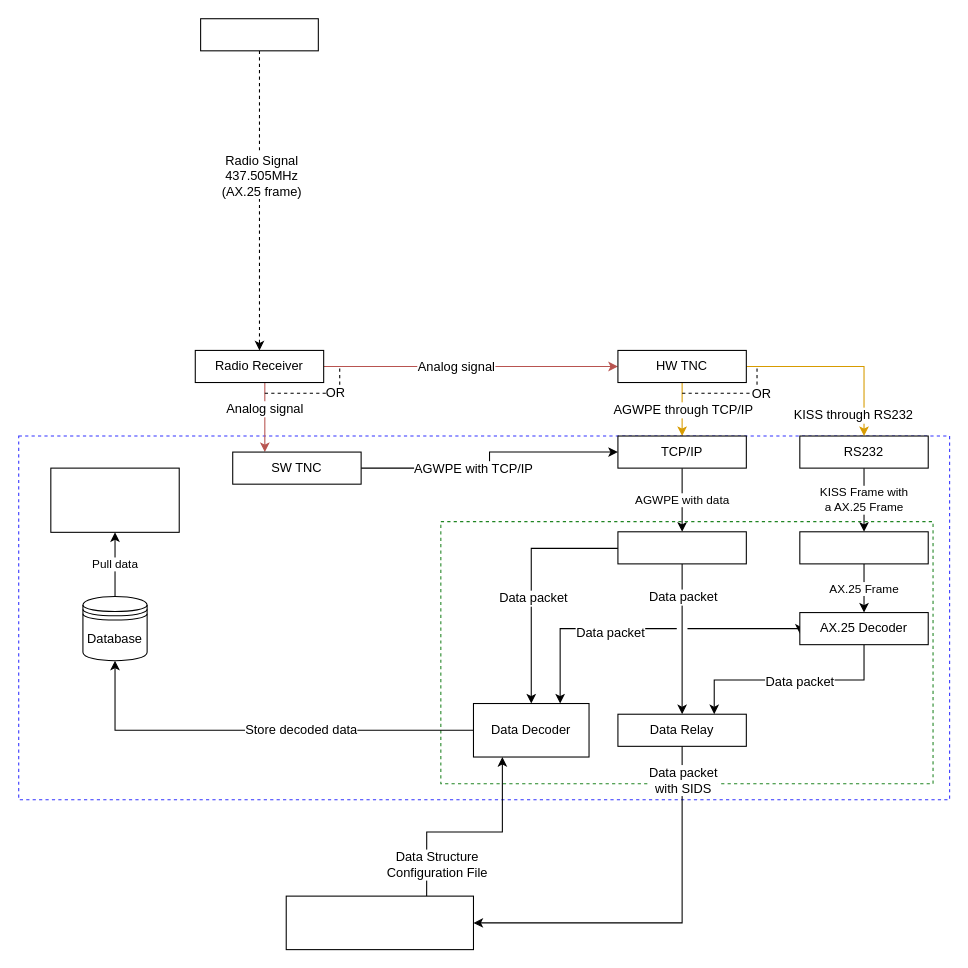
The diagram is 968 pixels wide and 968 high, and some of its shapes have lost their labels. Here are the shapes that lost their labels. From the top down, the centre of each, then its label:
At (259,34): "ESTCube-2".
At (114,499): "React Application".
At (681,547): "AGWPE".
At (863,547): "KISS".
At (379,922): "Mission Control".
